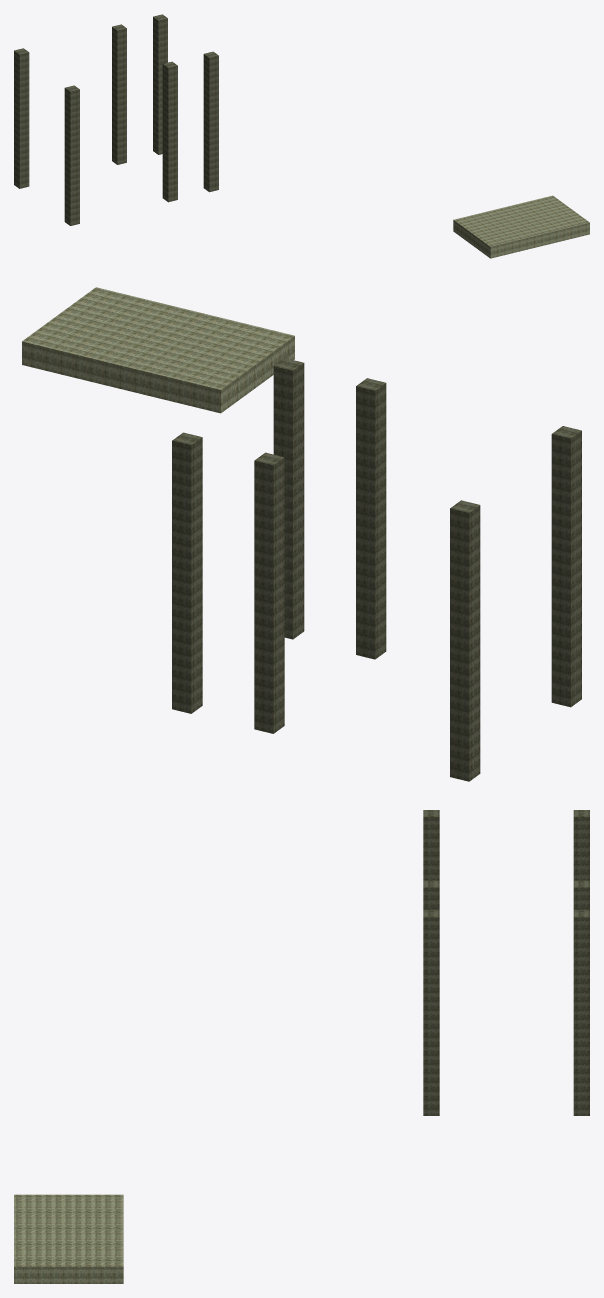
The picture shows the model from 3 angles, top to bottom: view 1: azimuth 30°, elevation 25°; view 2: azimuth 150°, elevation 25°; view 3: azimuth 270°, elevation 25°; orthographic projection. The views are drawn at different scales.
Parts seen in each view (by area): view 1: Footing-Rectangular 2000 x3100 x 350mm 3 [683298]001, Columns_Rectangular 300 x 300 mm [683734]001, Columns_Rectangular 300 x 300 mm [684578]001, Columns_Rectangular 300 x 300 mm [684483]001, Columns_Rectangular 300 x 300 mm [684236]001, Columns_Rectangular 300 x 300 mm [684058]001, Columns_Rectangular 300 x 300 mm [684173]001; view 2: Footing-Rectangular 2000 x3100 x 350mm 3 [683298]001, Columns_Rectangular 300 x 300 mm [683734]001, Columns_Rectangular 300 x 300 mm [684173]001, Columns_Rectangular 300 x 300 mm [684058]001, Columns_Rectangular 300 x 300 mm [684483]001, Columns_Rectangular 300 x 300 mm [684236]001, Columns_Rectangular 300 x 300 mm [684578]001; view 3: Footing-Rectangular 2000 x3100 x 350mm 3 [683298]001, Columns_Rectangular 300 x 300 mm [684173]001, Columns_Rectangular 300 x 300 mm [684578]001, Columns_Rectangular 300 x 300 mm [683734]001, Columns_Rectangular 300 x 300 mm [684236]001.
Boxes of the visible parts, bbox=[...] form: Footing-Rectangular 2000 x3100 x 350mm 3 [683298]001: bbox=[453, 195, 589, 258]; Columns_Rectangular 300 x 300 mm [683734]001: bbox=[14, 48, 29, 188]; Columns_Rectangular 300 x 300 mm [684578]001: bbox=[203, 51, 218, 192]; Columns_Rectangular 300 x 300 mm [684483]001: bbox=[162, 61, 177, 202]; Columns_Rectangular 300 x 300 mm [684236]001: bbox=[64, 85, 79, 225]; Columns_Rectangular 300 x 300 mm [684058]001: bbox=[112, 24, 126, 164]; Columns_Rectangular 300 x 300 mm [684173]001: bbox=[153, 14, 167, 154]; Footing-Rectangular 2000 x3100 x 350mm 3 [683298]001: bbox=[22, 287, 294, 413]; Columns_Rectangular 300 x 300 mm [683734]001: bbox=[450, 500, 480, 781]; Columns_Rectangular 300 x 300 mm [684173]001: bbox=[172, 432, 202, 713]; Columns_Rectangular 300 x 300 mm [684058]001: bbox=[254, 452, 284, 733]; Columns_Rectangular 300 x 300 mm [684483]001: bbox=[356, 378, 386, 659]; Columns_Rectangular 300 x 300 mm [684236]001: bbox=[551, 426, 581, 707]; Columns_Rectangular 300 x 300 mm [684578]001: bbox=[273, 358, 304, 639]; Footing-Rectangular 2000 x3100 x 350mm 3 [683298]001: bbox=[14, 1194, 123, 1283]; Columns_Rectangular 300 x 300 mm [684173]001: bbox=[573, 910, 589, 1115]; Columns_Rectangular 300 x 300 mm [684578]001: bbox=[423, 910, 439, 1115]; Columns_Rectangular 300 x 300 mm [683734]001: bbox=[573, 810, 589, 880]; Columns_Rectangular 300 x 300 mm [684236]001: bbox=[423, 810, 439, 880].
Bounding box in the file's own units: 11.88 × 4 × 10.51.
Materials: 2 (2 with a texture image).
